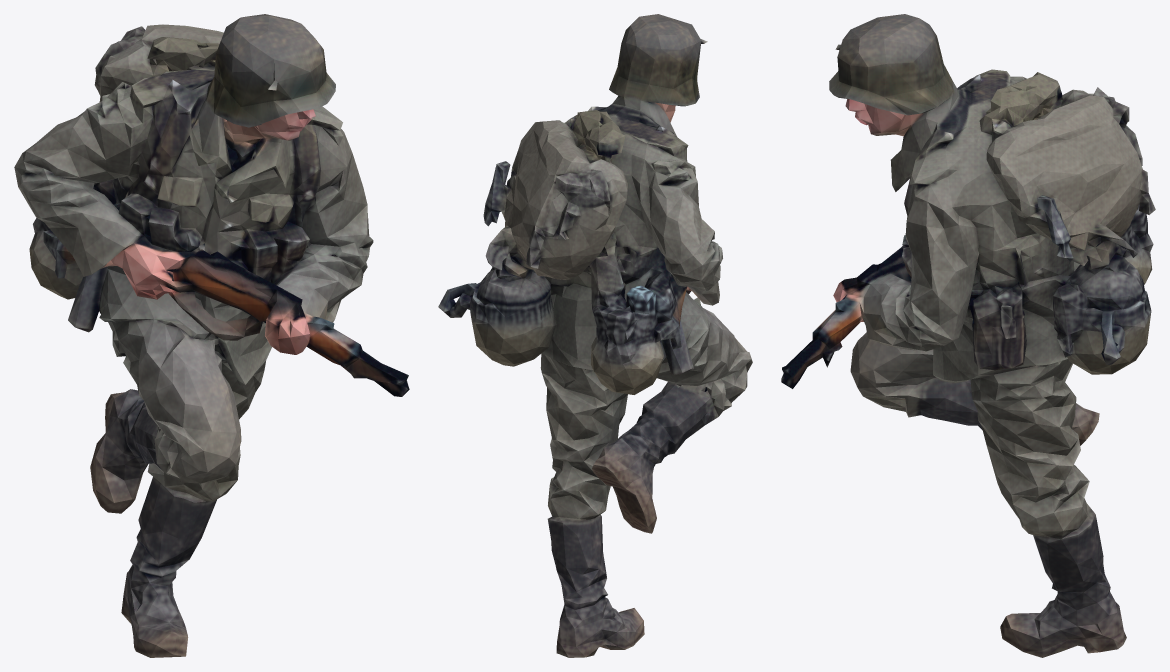
Rendered from inf_run_a.obj.
3 renders of one model, left to right at view 1: azimuth 30°, elevation 25°; view 2: azimuth 150°, elevation 25°; view 3: azimuth 270°, elevation 25°, orthographic. The views are drawn at different scales.
Visible parts, largest first — view 1: inf_run_a; view 2: inf_run_a; view 3: inf_run_a.
Boxes of the visible parts, left/top/right/bottom form: inf_run_a: left=14, top=14, right=409, bottom=657; inf_run_a: left=438, top=14, right=752, bottom=657; inf_run_a: left=781, top=14, right=1155, bottom=657.
Size of the model in its own units: 0.8132 by 1.75 by 0.9303.
Materials: 1 (1 with a texture image).
